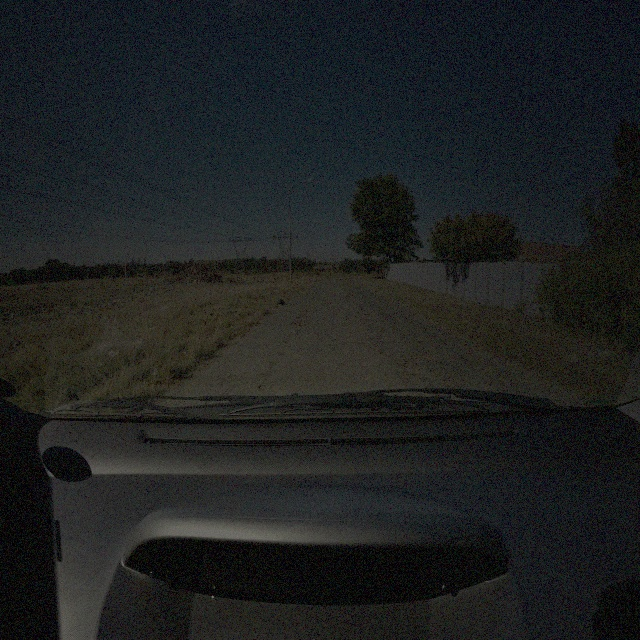pothole: (416, 352, 441, 365), (397, 370, 410, 384), (403, 360, 420, 370), (290, 320, 311, 328), (442, 377, 455, 388), (377, 324, 388, 335), (260, 379, 269, 391), (381, 351, 392, 359), (361, 317, 368, 325), (278, 351, 284, 356), (301, 309, 310, 312), (302, 316, 310, 319)
